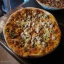pizza: (6, 6, 62, 52)
